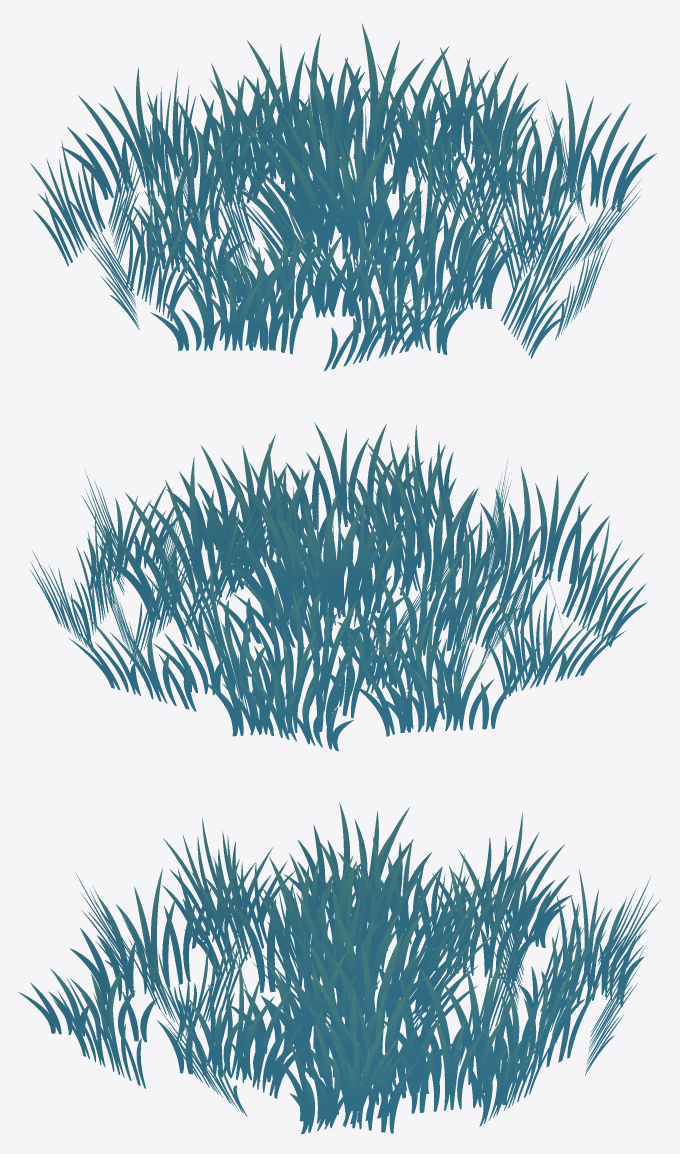
3 views of the same model, one above another, from view 1: azimuth 30°, elevation 25°; view 2: azimuth 150°, elevation 25°; view 3: azimuth 270°, elevation 25° (orthographic). The views are drawn at different scales.
Visible parts, largest first — view 1: submesh_0; view 2: submesh_0; view 3: submesh_0.
Part boxes in pixels (x1,y1,x2,y2): submesh_0: [29, 23, 656, 370]; submesh_0: [30, 422, 647, 750]; submesh_0: [18, 802, 660, 1134].
Size of the model in its own units: 2.25 by 0.5239 by 2.19.
Materials: 1 (1 with a texture image).
